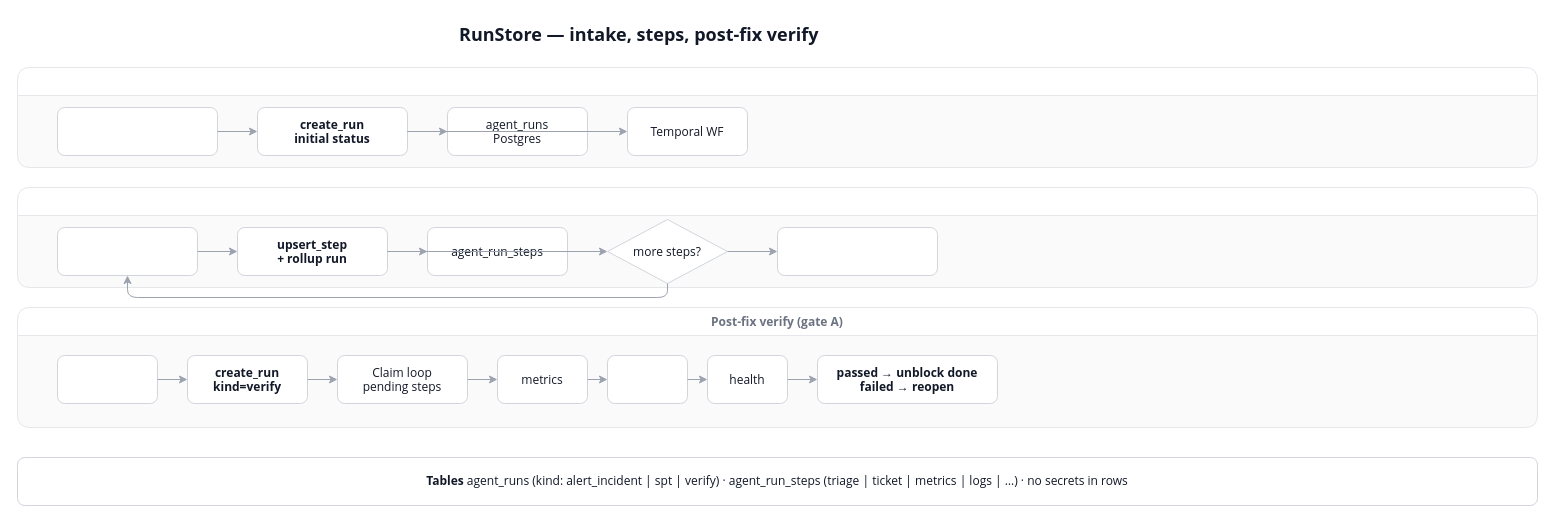
The diagram is 1555 pixels wide and 523 high, and some of its shapes have lost their labels. The shapes that lost their labels are listed below. From the top down, each one's box as (x1, y1, x2, y2) in pixels, then its label:
(56, 106, 218, 156): Request Alert / SPT / Verify
(16, 66, 1538, 168): Intake
(56, 226, 198, 276): Execute port activity
(16, 186, 1538, 288): Every step
(776, 226, 938, 276): terminal passed / partial / failed
(56, 354, 158, 404): work_done
(606, 354, 688, 404): logs
